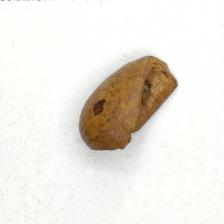NG: (123, 59, 177, 146)
